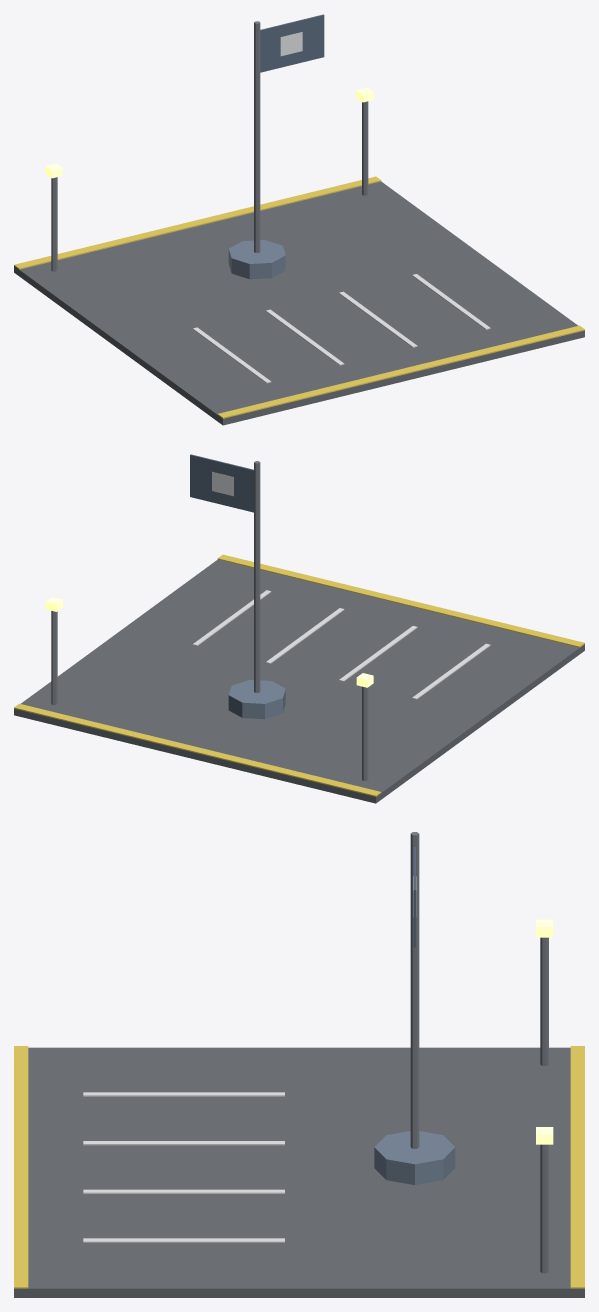
Rendered from plaza.glb.
3 renders of one model, top to bottom at view 1: azimuth 30°, elevation 25°; view 2: azimuth 150°, elevation 25°; view 3: azimuth 270°, elevation 25°, orthographic. The views are drawn at different scales.
Parts seen in each view (by area): view 1: plaza, detail; view 2: plaza, detail; view 3: plaza, detail.
Boxes of the visible parts, box(x1,y1,x2,y2) form: plaza: box(14, 14, 584, 425); detail: box(45, 32, 490, 383); plaza: box(14, 454, 584, 803); detail: box(45, 472, 490, 780); plaza: box(14, 832, 584, 1297); detail: box(83, 876, 553, 1273).
Size of the model in its own units: 19.8 by 13.15 by 19.8.
